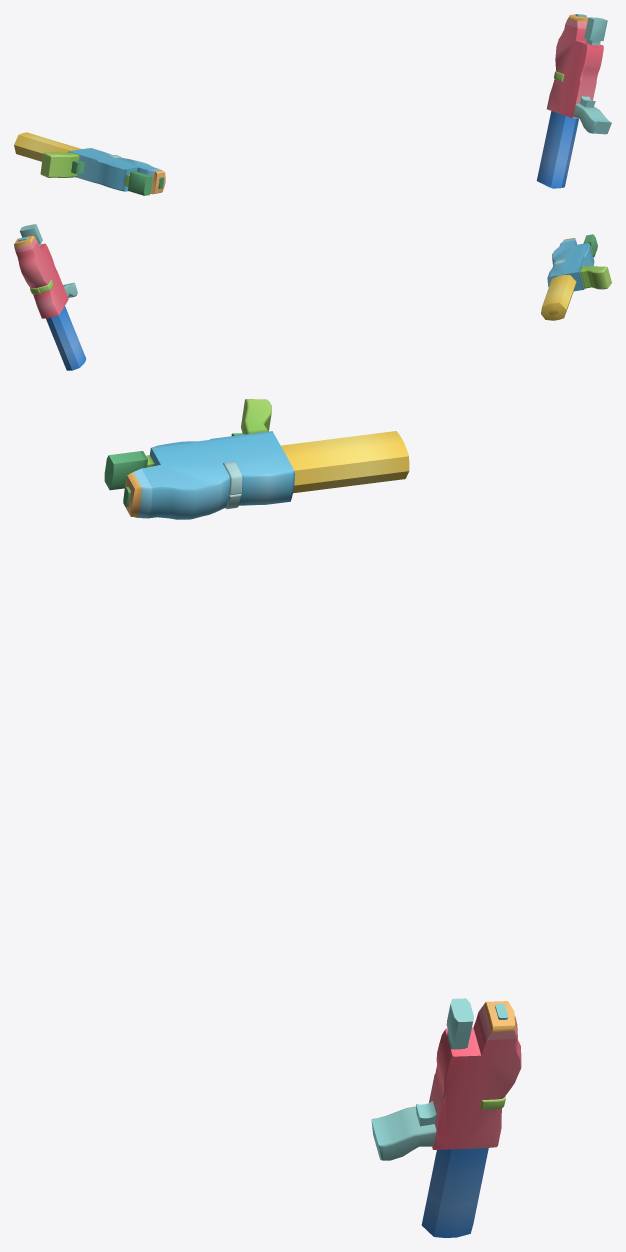
File: water guns posed.fbx
3 renders of one model, top to bottom at view 1: azimuth 30°, elevation 25°; view 2: azimuth 150°, elevation 25°; view 3: azimuth 270°, elevation 25°, orthographic. The views are drawn at different scales.
Parts seen in each view (by area): view 1: water_gun_v2, water_gun; view 2: water_gun_v2, water_gun; view 3: water_gun, water_gun_v2.
Part boxes in pixels (box(x1,y1,x2,y2)): water_gun_v2: box(536, 14, 611, 188); water_gun: box(14, 132, 165, 195); water_gun_v2: box(14, 224, 86, 370); water_gun: box(541, 234, 611, 320); water_gun: box(104, 399, 409, 519); water_gun_v2: box(371, 998, 521, 1237).
Bounding box in the file's own units: 2244 × 725 × 754.
